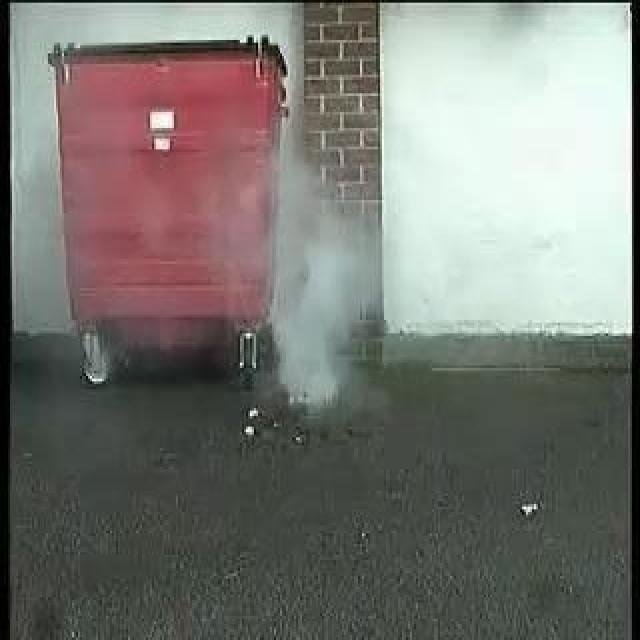Smoke: (272, 165, 382, 411)
